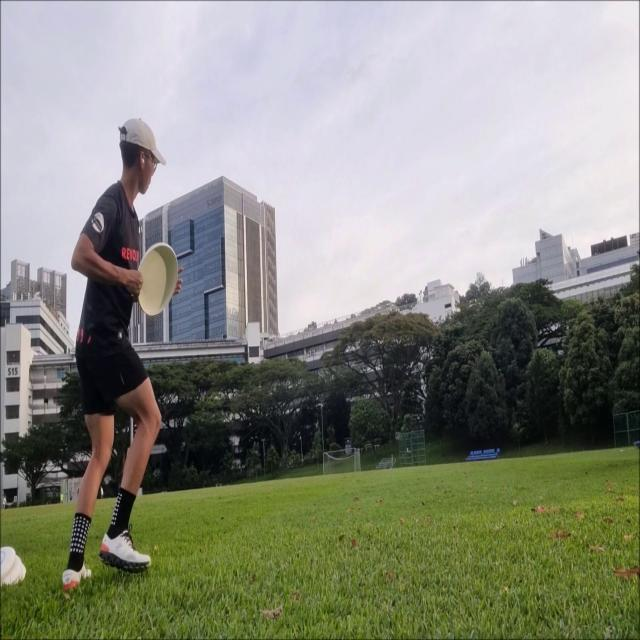disc: (137, 241, 179, 318)
